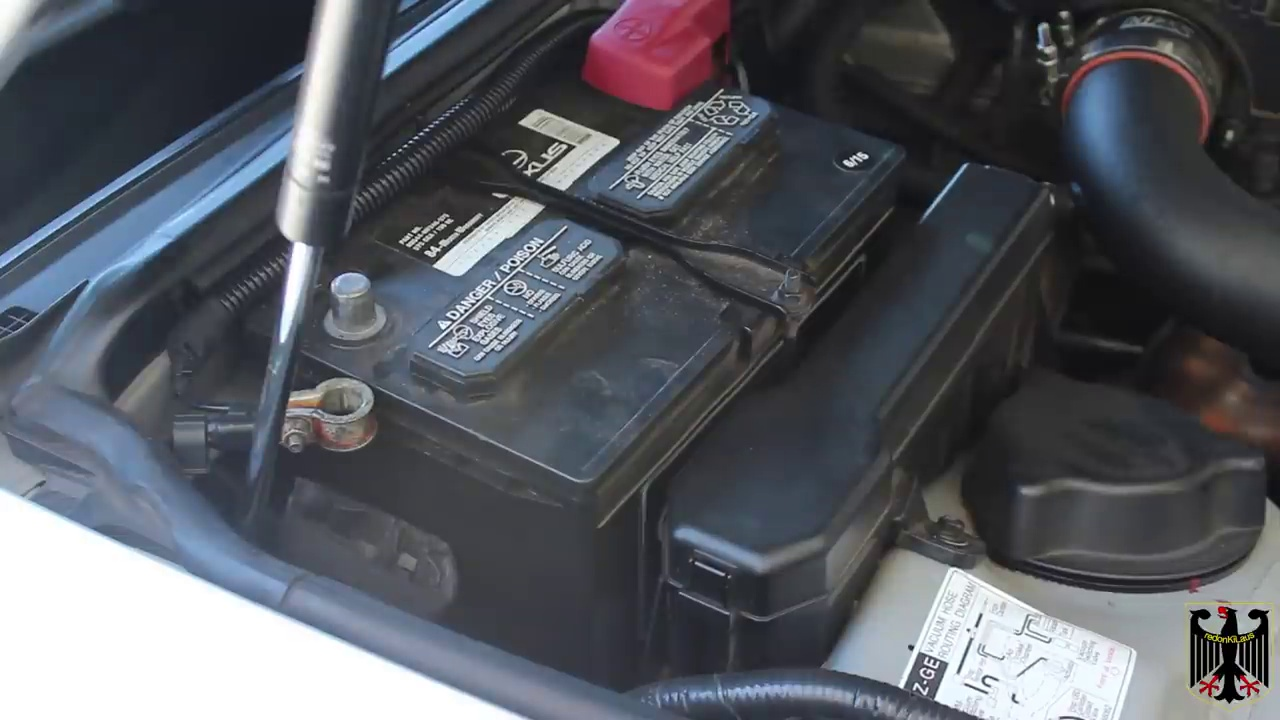battery: (236, 39, 901, 484)
neg_disconnected: (263, 242, 422, 478)
pos_connected: (546, 1, 775, 127)
